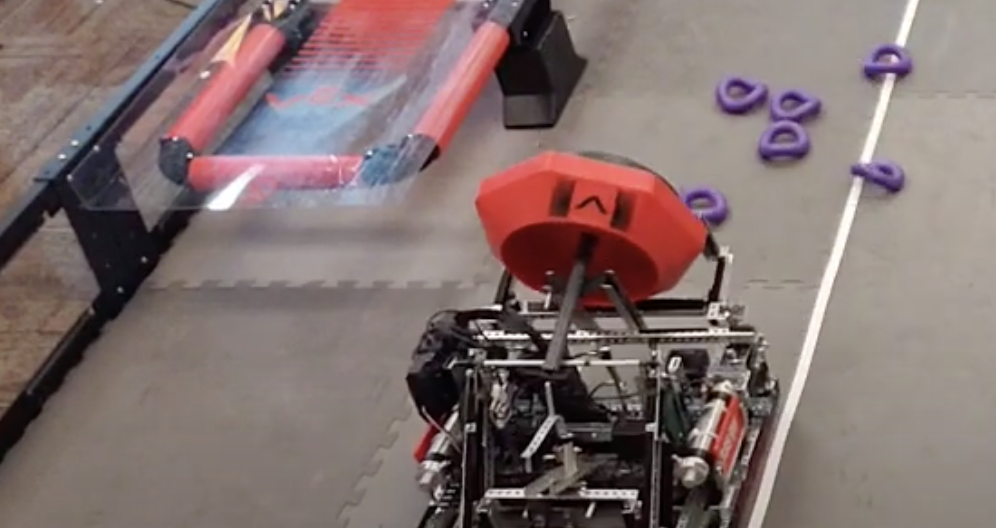ring: (757, 119, 809, 160), (716, 74, 769, 114), (679, 187, 729, 226), (851, 160, 905, 193), (769, 89, 820, 121), (863, 44, 911, 76)
